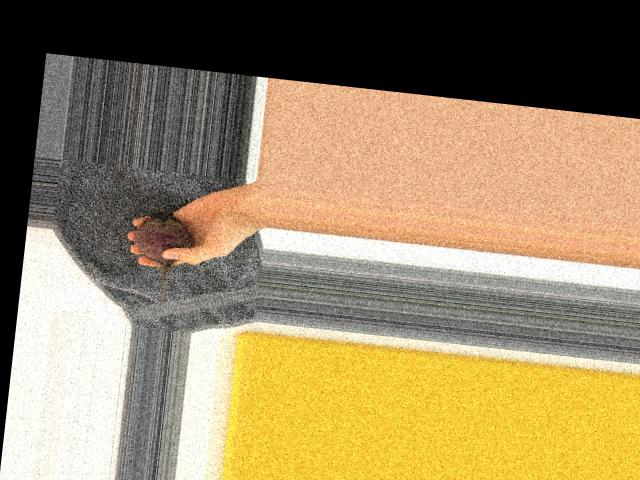beet: (126, 208, 194, 309)
